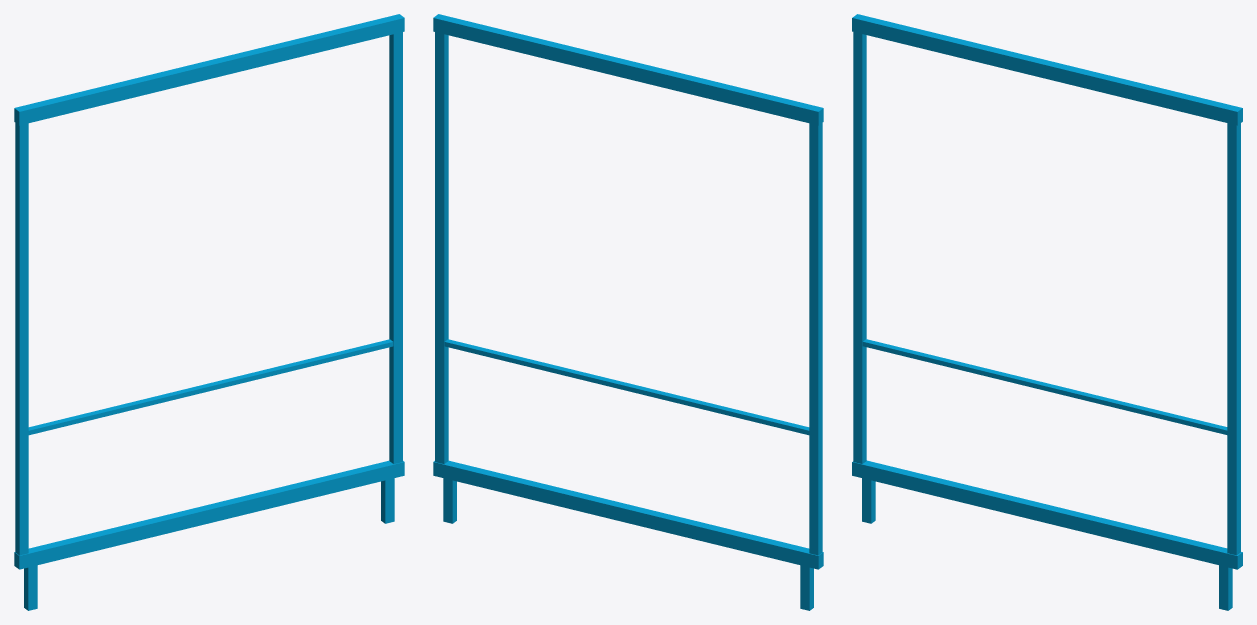
Rendered from Factory_Fence_02_Lod0.fbx.
The picture shows the model from 3 angles, left to right: view 1: azimuth 30°, elevation 25°; view 2: azimuth 150°, elevation 25°; view 3: azimuth 330°, elevation 25°; orthographic projection.
Visible parts, largest first — view 1: Factory_Fence_02_Lod0; view 2: Factory_Fence_02_Lod0; view 3: Factory_Fence_02_Lod0.
Part boxes in pixels (x1,y1,x2,y2): Factory_Fence_02_Lod0: [14, 14, 404, 610]; Factory_Fence_02_Lod0: [433, 14, 823, 610]; Factory_Fence_02_Lod0: [852, 14, 1242, 610].
Size of the model in its own units: 263 by 328 by 6.3.
